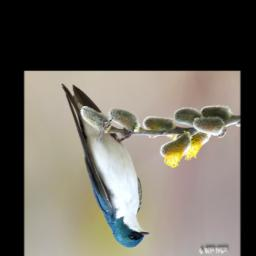Swallow: (61, 81, 150, 248)
